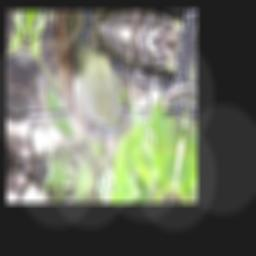Cuckoo: (37, 16, 135, 149)
